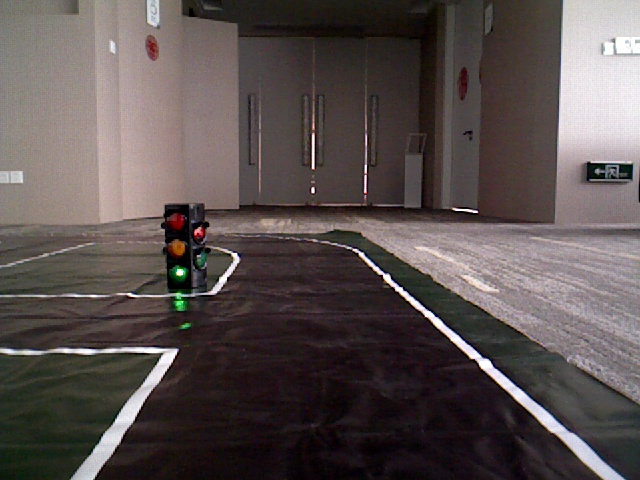green: (164, 207, 193, 281)
